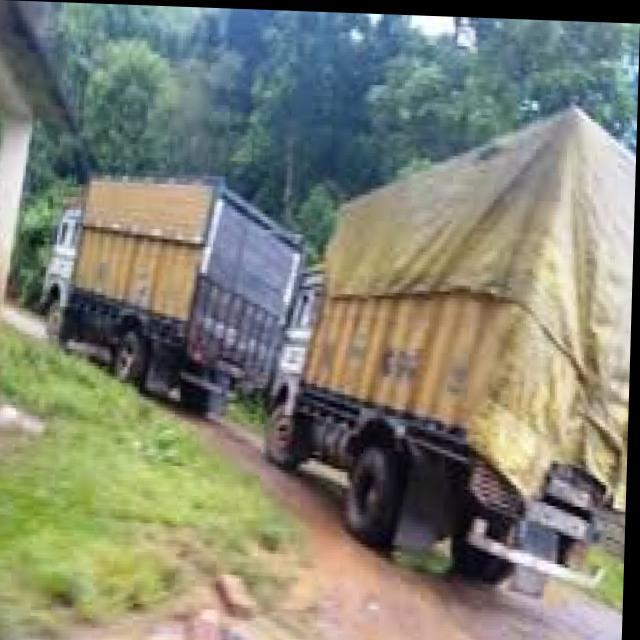covered: (263, 89, 638, 575)
